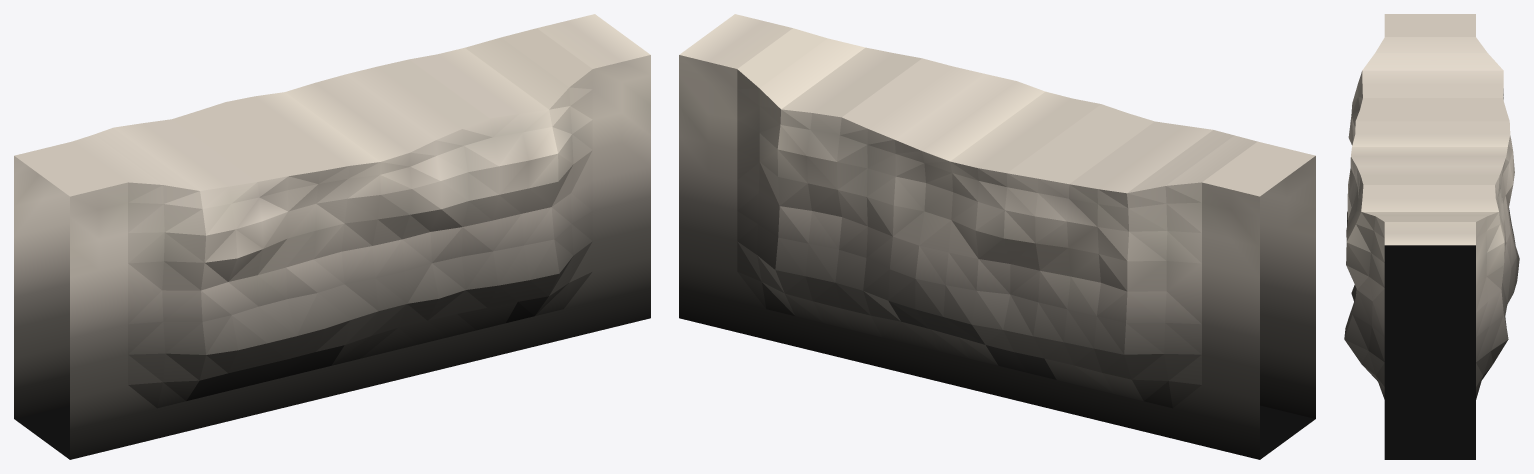
Rendered from SM_VKI_Wall_Cave_Plain_300_Cut.fbx.
3 views of the same model, side by side, from view 1: azimuth 30°, elevation 25°; view 2: azimuth 150°, elevation 25°; view 3: azimuth 270°, elevation 25° (orthographic). The views are drawn at different scales.
Parts seen in each view (by area): view 1: SM_VKI_Wall_Cave_Plain_300_Cut.001; view 2: SM_VKI_Wall_Cave_Plain_300_Cut.001; view 3: SM_VKI_Wall_Cave_Plain_300_Cut.001.
Part boxes in pixels (bbox=[...]): SM_VKI_Wall_Cave_Plain_300_Cut.001: bbox=[14, 14, 650, 459]; SM_VKI_Wall_Cave_Plain_300_Cut.001: bbox=[679, 14, 1315, 459]; SM_VKI_Wall_Cave_Plain_300_Cut.001: bbox=[1344, 14, 1519, 459].
Bounding box in the file's own units: 3 × 1.3 × 0.962.
